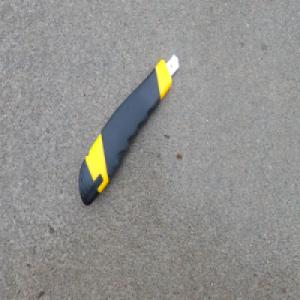Cutter: (77, 51, 180, 207)
